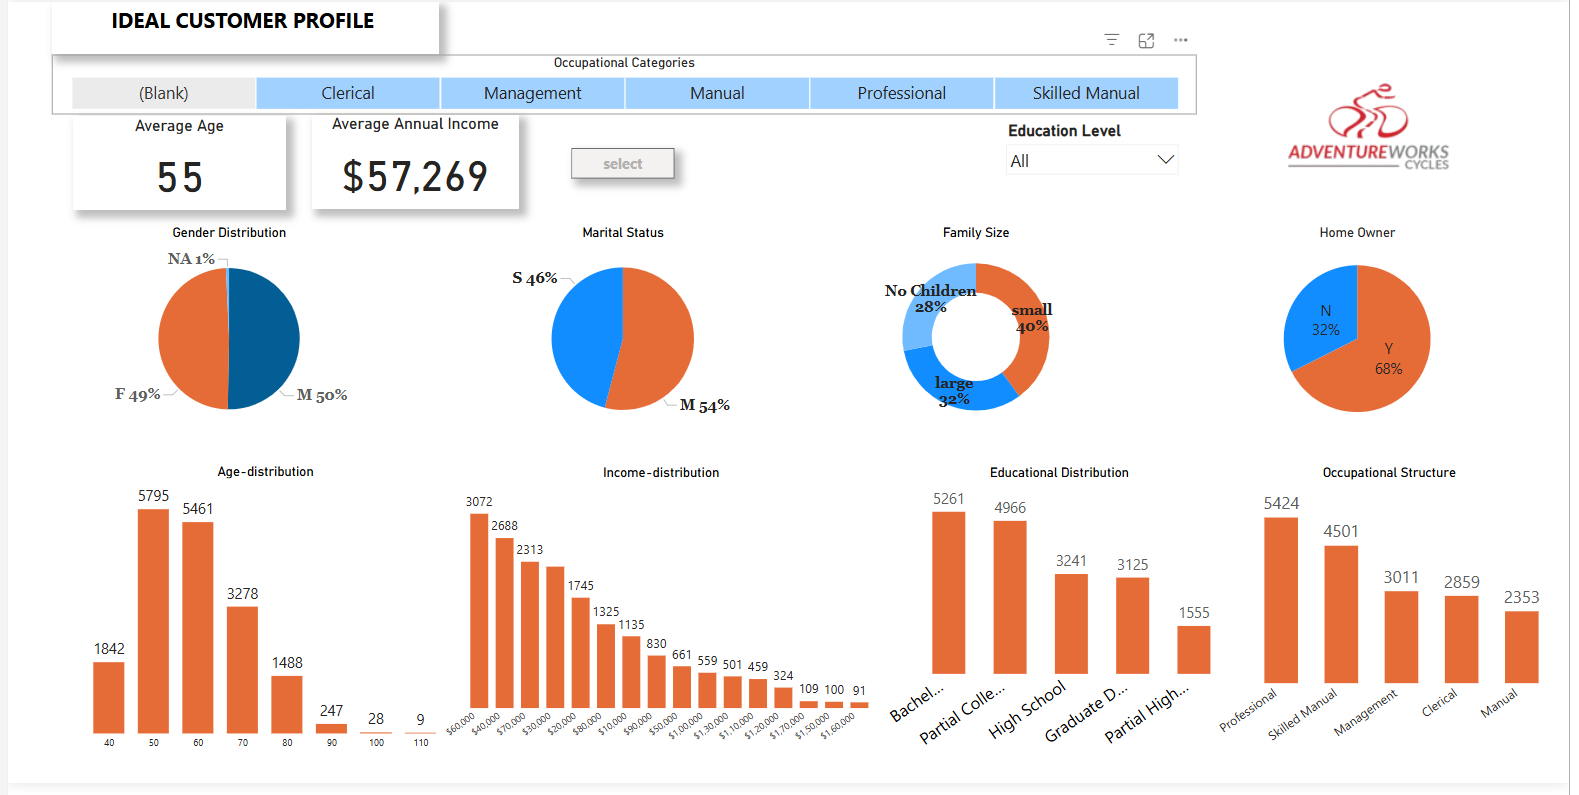

Layout of this report page (visuals, bound fields, positions):
{"tool":"powerbi","page":{"name":"Page 1","canvas":[1280,720],"ordinal":0},"visuals":[{"type":"textbox","box":[21.6,0,367.9,67.8],"z":0},{"type":"pieChart","title":"Gender Distribution","fields":{"Category":["AW_Customers.Gender"],"Y":["CountNonNull(AW_Customers.CustomerKey)"]},"box":[44.3,286.4,255.3,214.5],"z":1000},{"type":"pieChart","title":"Marital Status","fields":{"Y":["CountNonNull(AW_Customers.CustomerKey)"],"Category":["AW_Customers.MaritalStatus"]},"box":[275,286.4,255.7,215.9],"z":2000},{"type":"pieChart","title":"Home Owner","fields":{"Category":["AW_Customers.HomeOwner"],"Y":["CountNonNull(AW_Customers.CustomerKey)"]},"box":[31.7,500.6,268.4,217.9],"z":3000},{"type":"clusteredColumnChart","title":"Age-distribution","fields":{"Y":["CountNonNull(AW_Customers.CustomerKey)"],"Category":["AW_Customers.Age (bins)"]},"box":[282.8,500.6,419.8,217.9],"z":4000},{"type":"donutChart","title":"Family Size","fields":{"Y":["CountNonNull(AW_Customers.CustomerKey)"],"Category":["AW_Customers.Family Size"]},"box":[485.2,286.4,256.8,214.8],"z":5000},{"type":"clusteredColumnChart","title":"Income-distribution","fields":{"Y":["CountNonNull(AW_Customers.CustomerKey)"],"Category":["AW_Customers.AnnualIncome"]},"box":[714.2,502.1,538.2,217.9],"z":6000},{"type":"slicer","title":"Occupational Categories","fields":{"Values":["AW_Customers.Occupation"]},"box":[56.3,79.4,1148.4,66.4],"z":7000},{"type":"slicer","fields":{"Values":["AW_Customers.EducationLevel"]},"box":[896,145.7,308.8,66.4],"z":8000},{"type":"card","fields":{"Values":["Avg(AW_Customers.Age as of 2017)"]},"box":[82.2,145.7,217.9,121.2],"z":9000},{"type":"card","fields":{"Values":["Avg(AW_Customers.AnnualIncome)"]},"box":[348.9,145.5,219.3,121.6],"z":10000},{"type":"clusteredColumnChart","title":"Occupational Structure","fields":{"Y":["CountNonNull(AW_Customers.CustomerKey)"],"Category":["AW_Customers.Occupation"]},"box":[702.3,286.4,309.1,214.8],"z":11000},{"type":"clusteredColumnChart","title":"Educational Distribution","fields":{"Y":["CountNonNull(AW_Customers.CustomerKey)"],"Category":["AW_Customers.EducationLevel"]},"box":[998.9,286.4,280.7,214.8],"z":12000},{"type":"image","box":[984,0,290,106.8],"z":13000}]}

Visuals, with their boxes on the page's 1280x720 design canvas (x1, y1, x2, y2). These are canvas units, not pixel positions in the 1579x795 screenshot, which may show the page scaled, cropped or inside an application window:
textbox: <bbox>22, 0, 390, 68</bbox>
"Gender Distribution" pieChart: <bbox>44, 286, 300, 501</bbox>
"Marital Status" pieChart: <bbox>275, 286, 531, 502</bbox>
"Home Owner" pieChart: <bbox>32, 501, 300, 718</bbox>
"Age-distribution" clusteredColumnChart: <bbox>283, 501, 703, 718</bbox>
"Family Size" donutChart: <bbox>485, 286, 742, 501</bbox>
"Income-distribution" clusteredColumnChart: <bbox>714, 502, 1252, 720</bbox>
"Occupational Categories" slicer: <bbox>56, 79, 1205, 146</bbox>
slicer - AW_Customers.EducationLevel: <bbox>896, 146, 1205, 212</bbox>
card - Avg(AW_Customers.Age as of 2017): <bbox>82, 146, 300, 267</bbox>
card - Avg(AW_Customers.AnnualIncome): <bbox>349, 146, 568, 267</bbox>
"Occupational Structure" clusteredColumnChart: <bbox>702, 286, 1011, 501</bbox>
"Educational Distribution" clusteredColumnChart: <bbox>999, 286, 1280, 501</bbox>
image: <bbox>984, 0, 1274, 107</bbox>
